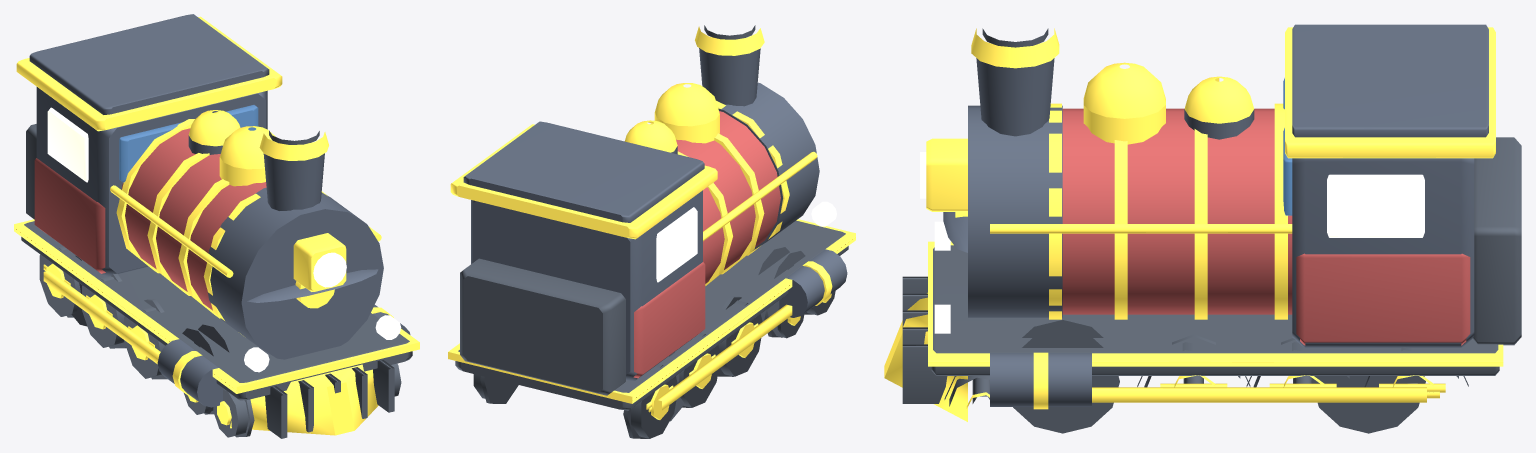
Rendered from loco_steam.glb.
3 views of the same model, side by side, from view 1: azimuth 30°, elevation 25°; view 2: azimuth 150°, elevation 25°; view 3: azimuth 270°, elevation 25° (orthographic). The views are drawn at different scales.
Parts seen in each view (by area): view 1: LocoSteam1880, WheelSet_0; view 2: LocoSteam1880, WheelSet_0; view 3: LocoSteam1880, WheelSet_0, WheelSet_1.
Part boxes in pixels (x1,y1,x2,y2): LocoSteam1880: (14,14,419,438); WheelSet_0: (182,324,229,413); LocoSteam1880: (448,25,855,438); WheelSet_0: (758,247,805,336); LocoSteam1880: (884,24,1521,421); WheelSet_0: (1013,320,1119,433); WheelSet_1: (1311,376,1425,433).
Bounding box in the file's own units: 0.448 × 0.5525 × 0.875.
